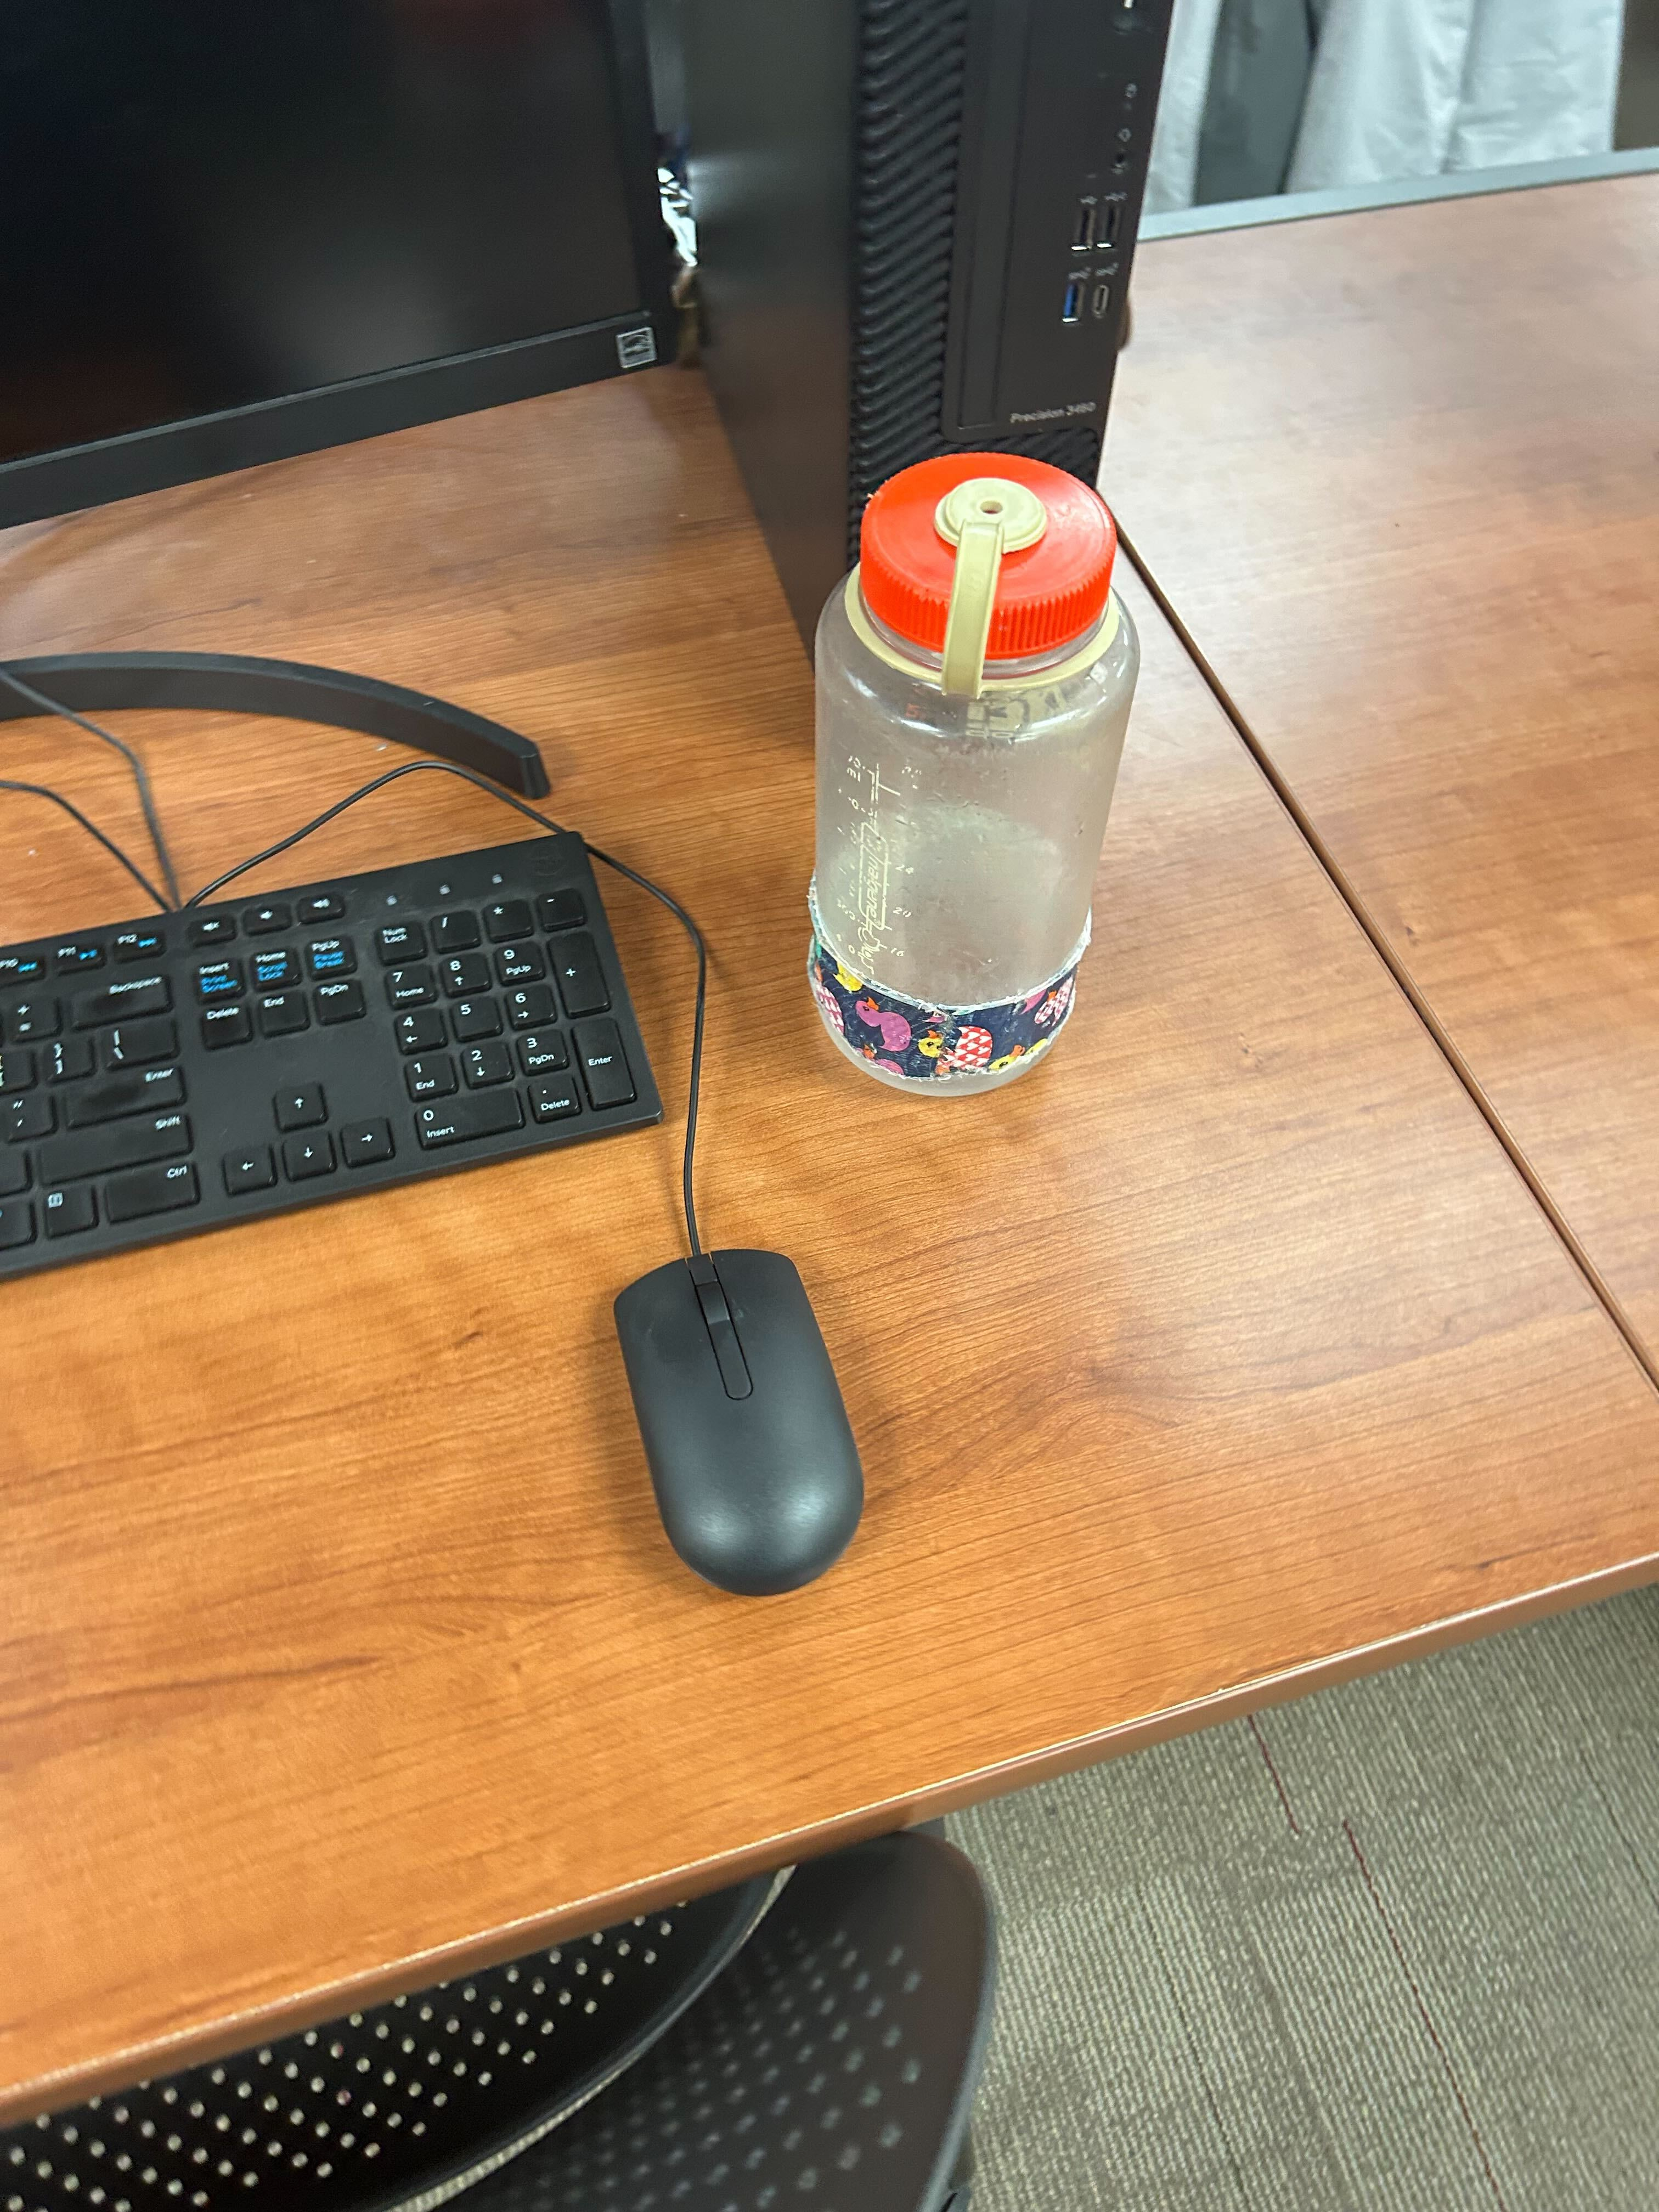bottle: (803, 435, 1143, 1108)
